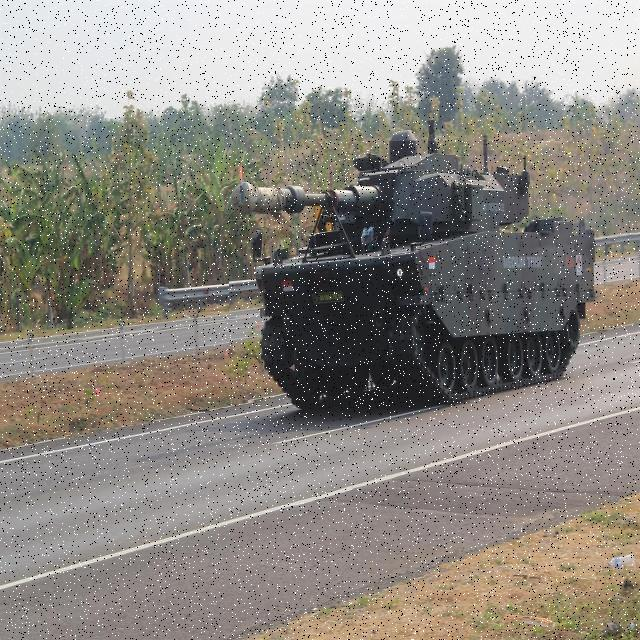MIL_MBT: (229, 142, 573, 401)
